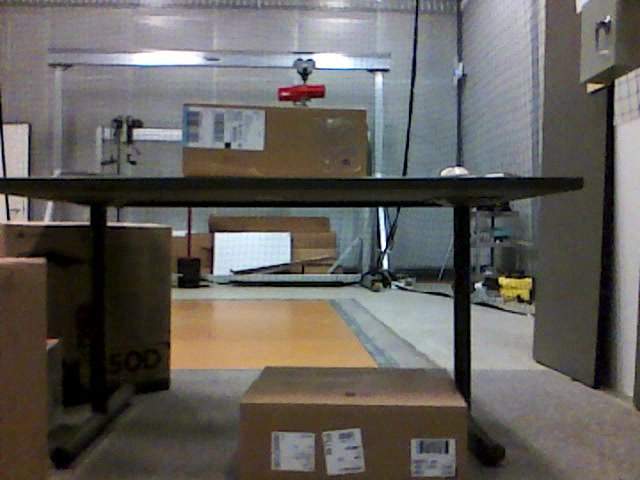box: (1, 220, 169, 394), (241, 365, 471, 479), (182, 101, 369, 180), (1, 257, 49, 480)
